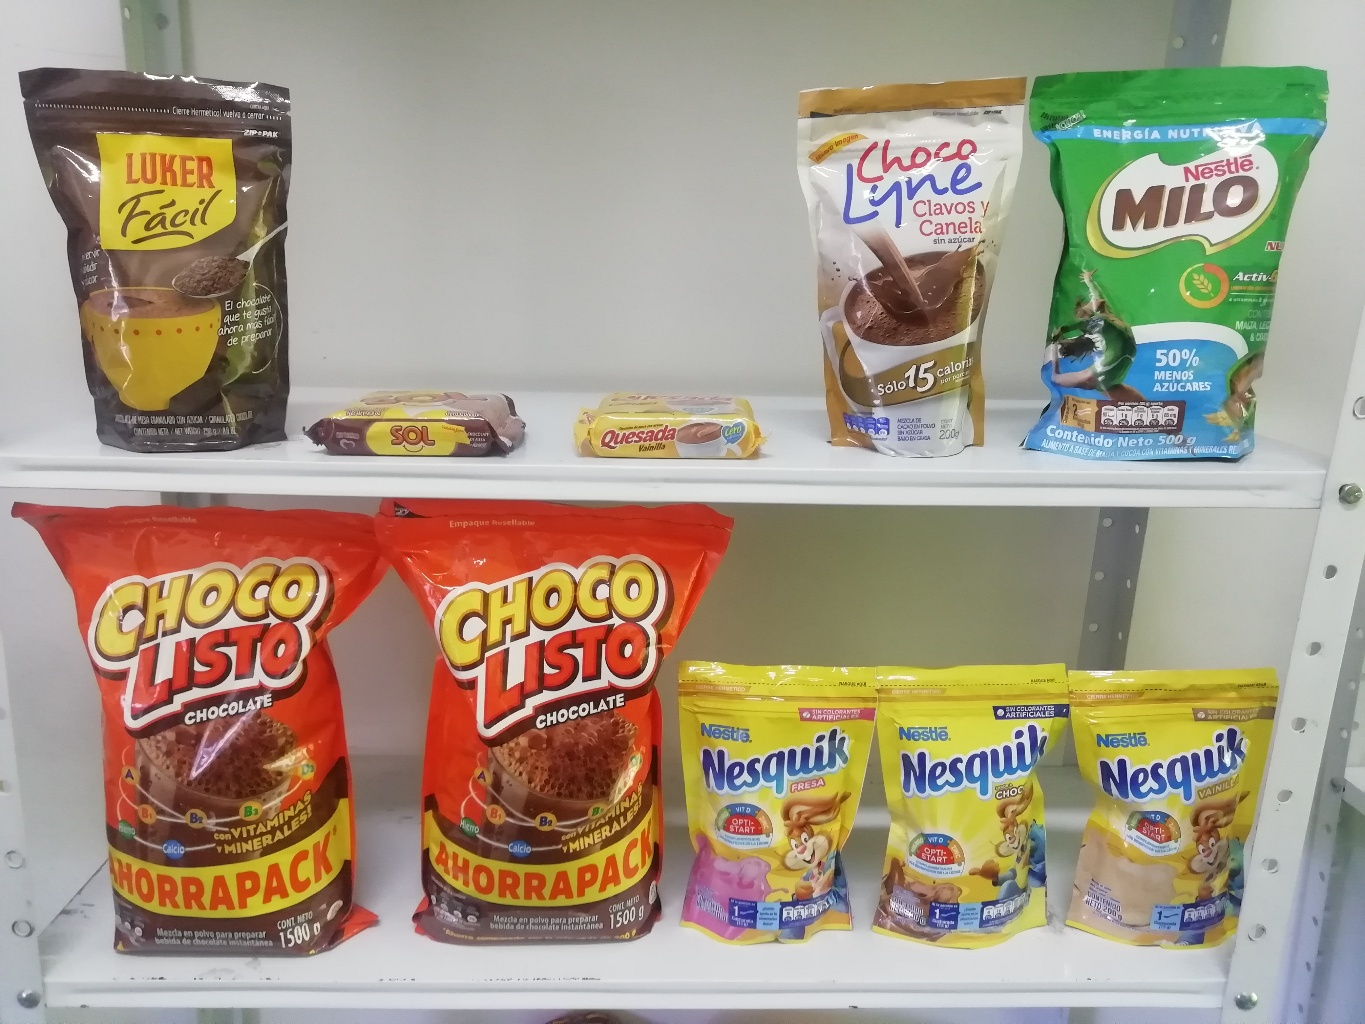COL0170103DYP1,500: (372, 500, 736, 942)
COL0170205DYP50000: (1032, 70, 1326, 463)
COL0170303DYP20000: (876, 659, 1072, 954)
COL0170305DYP20000: (678, 652, 877, 947)
COL0170306DYP20000: (1068, 666, 1283, 951)
